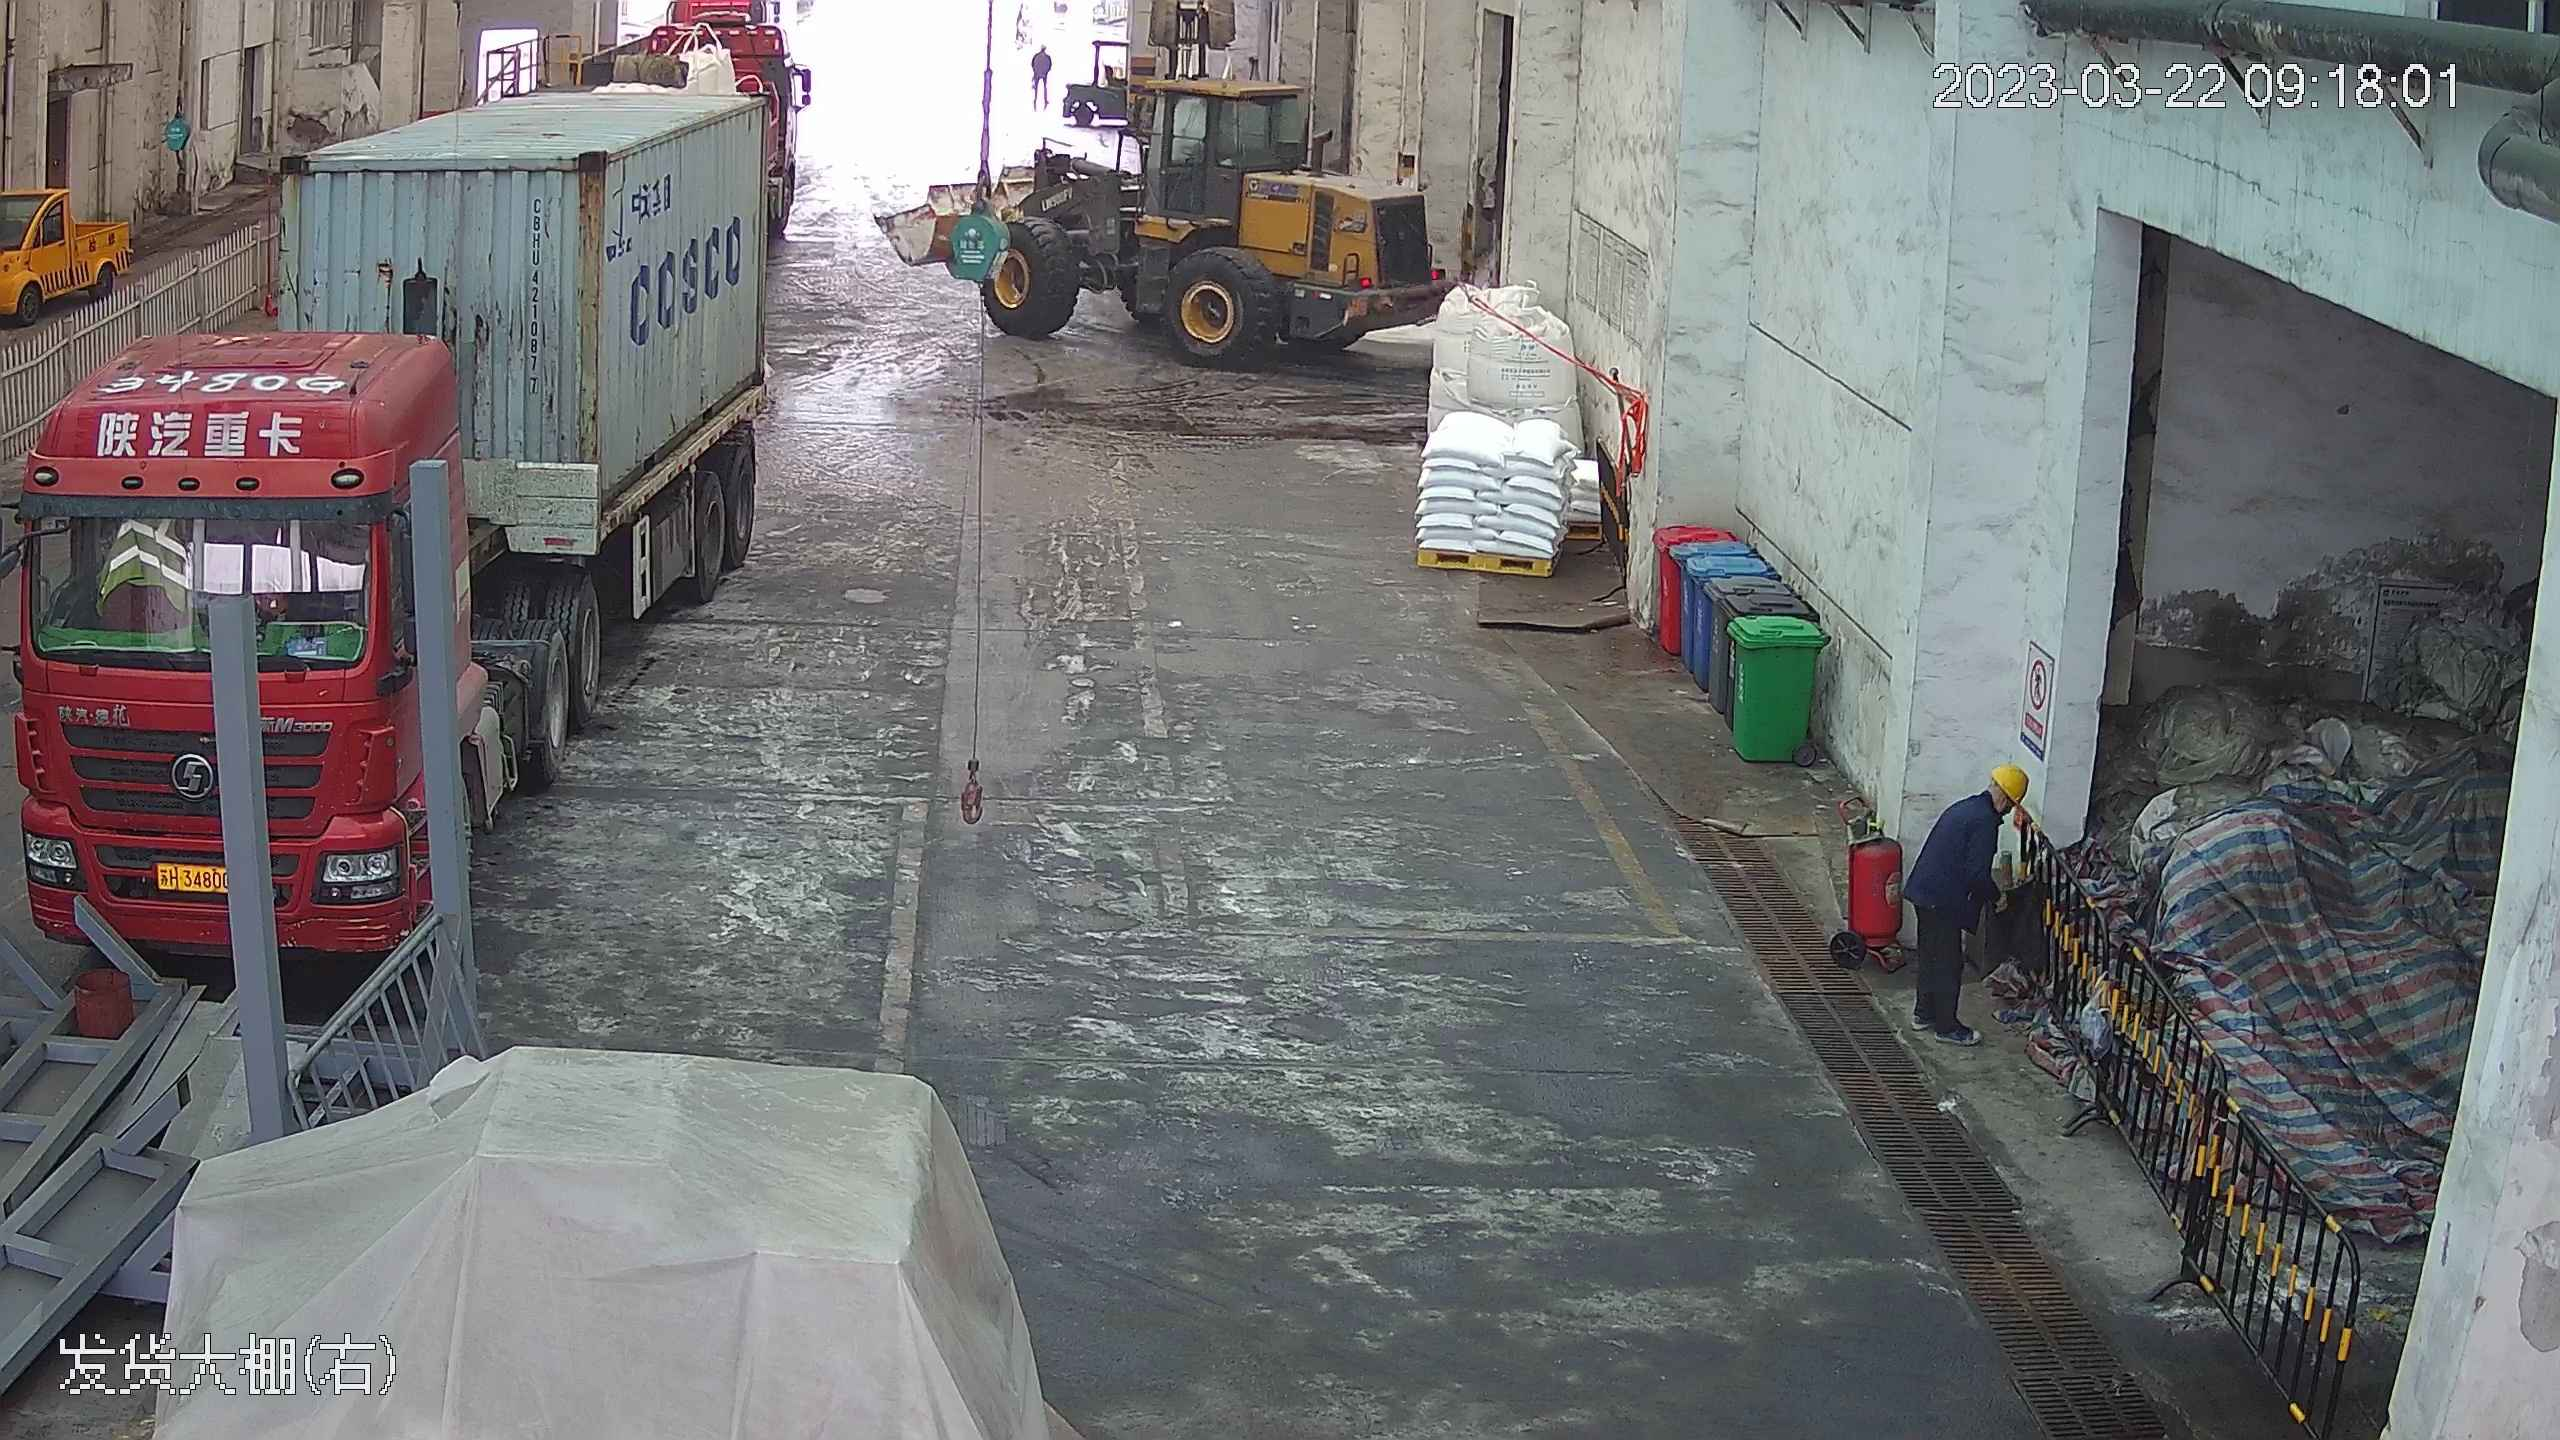head: (1942, 757, 2038, 850)
helmet: (1988, 758, 2034, 802)
people: (1910, 754, 2043, 1040)
truck: (15, 27, 792, 970)
